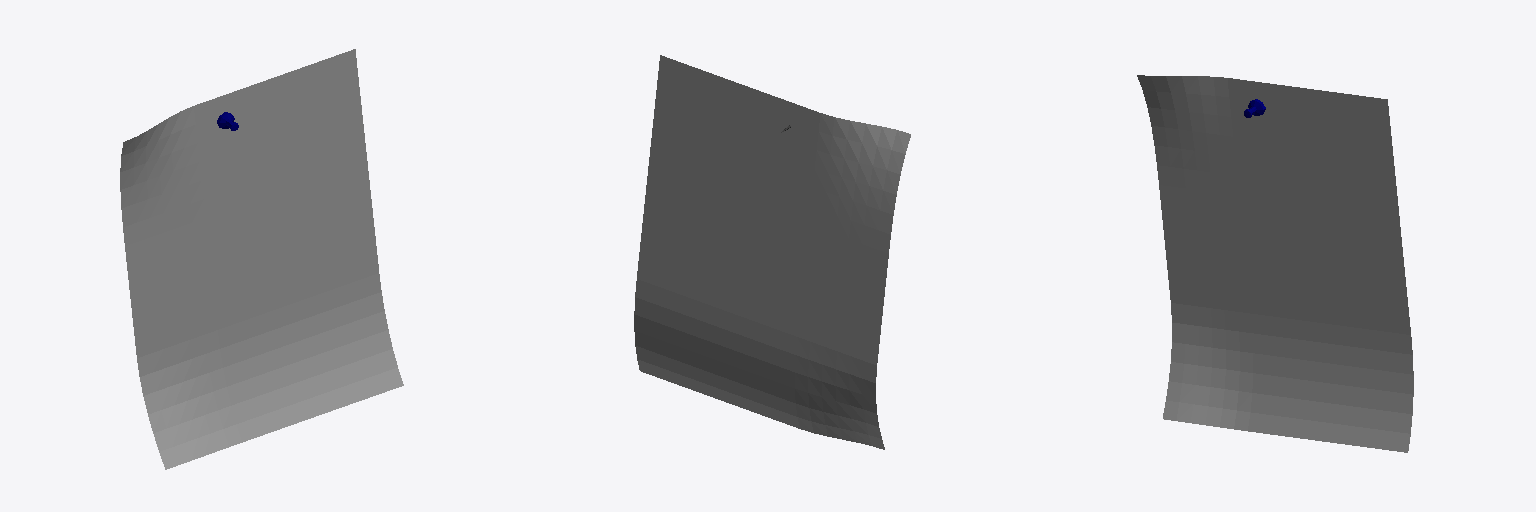
Rendered from paperpin2.obj.
The picture shows the model from 3 angles: view 1: azimuth 30°, elevation 25°; view 2: azimuth 150°, elevation 25°; view 3: azimuth 330°, elevation 25°; orthographic projection.
Parts seen in each view (by area): view 1: drawing.003; view 2: drawing.003; view 3: drawing.003.
Part boxes in pixels (x1,y1,x2,y2): drawing.003: (120, 49, 403, 469); drawing.003: (634, 55, 910, 449); drawing.003: (1137, 75, 1413, 452).
Bounding box in the file's own units: 0.2461 × 0.3046 × 0.0417.